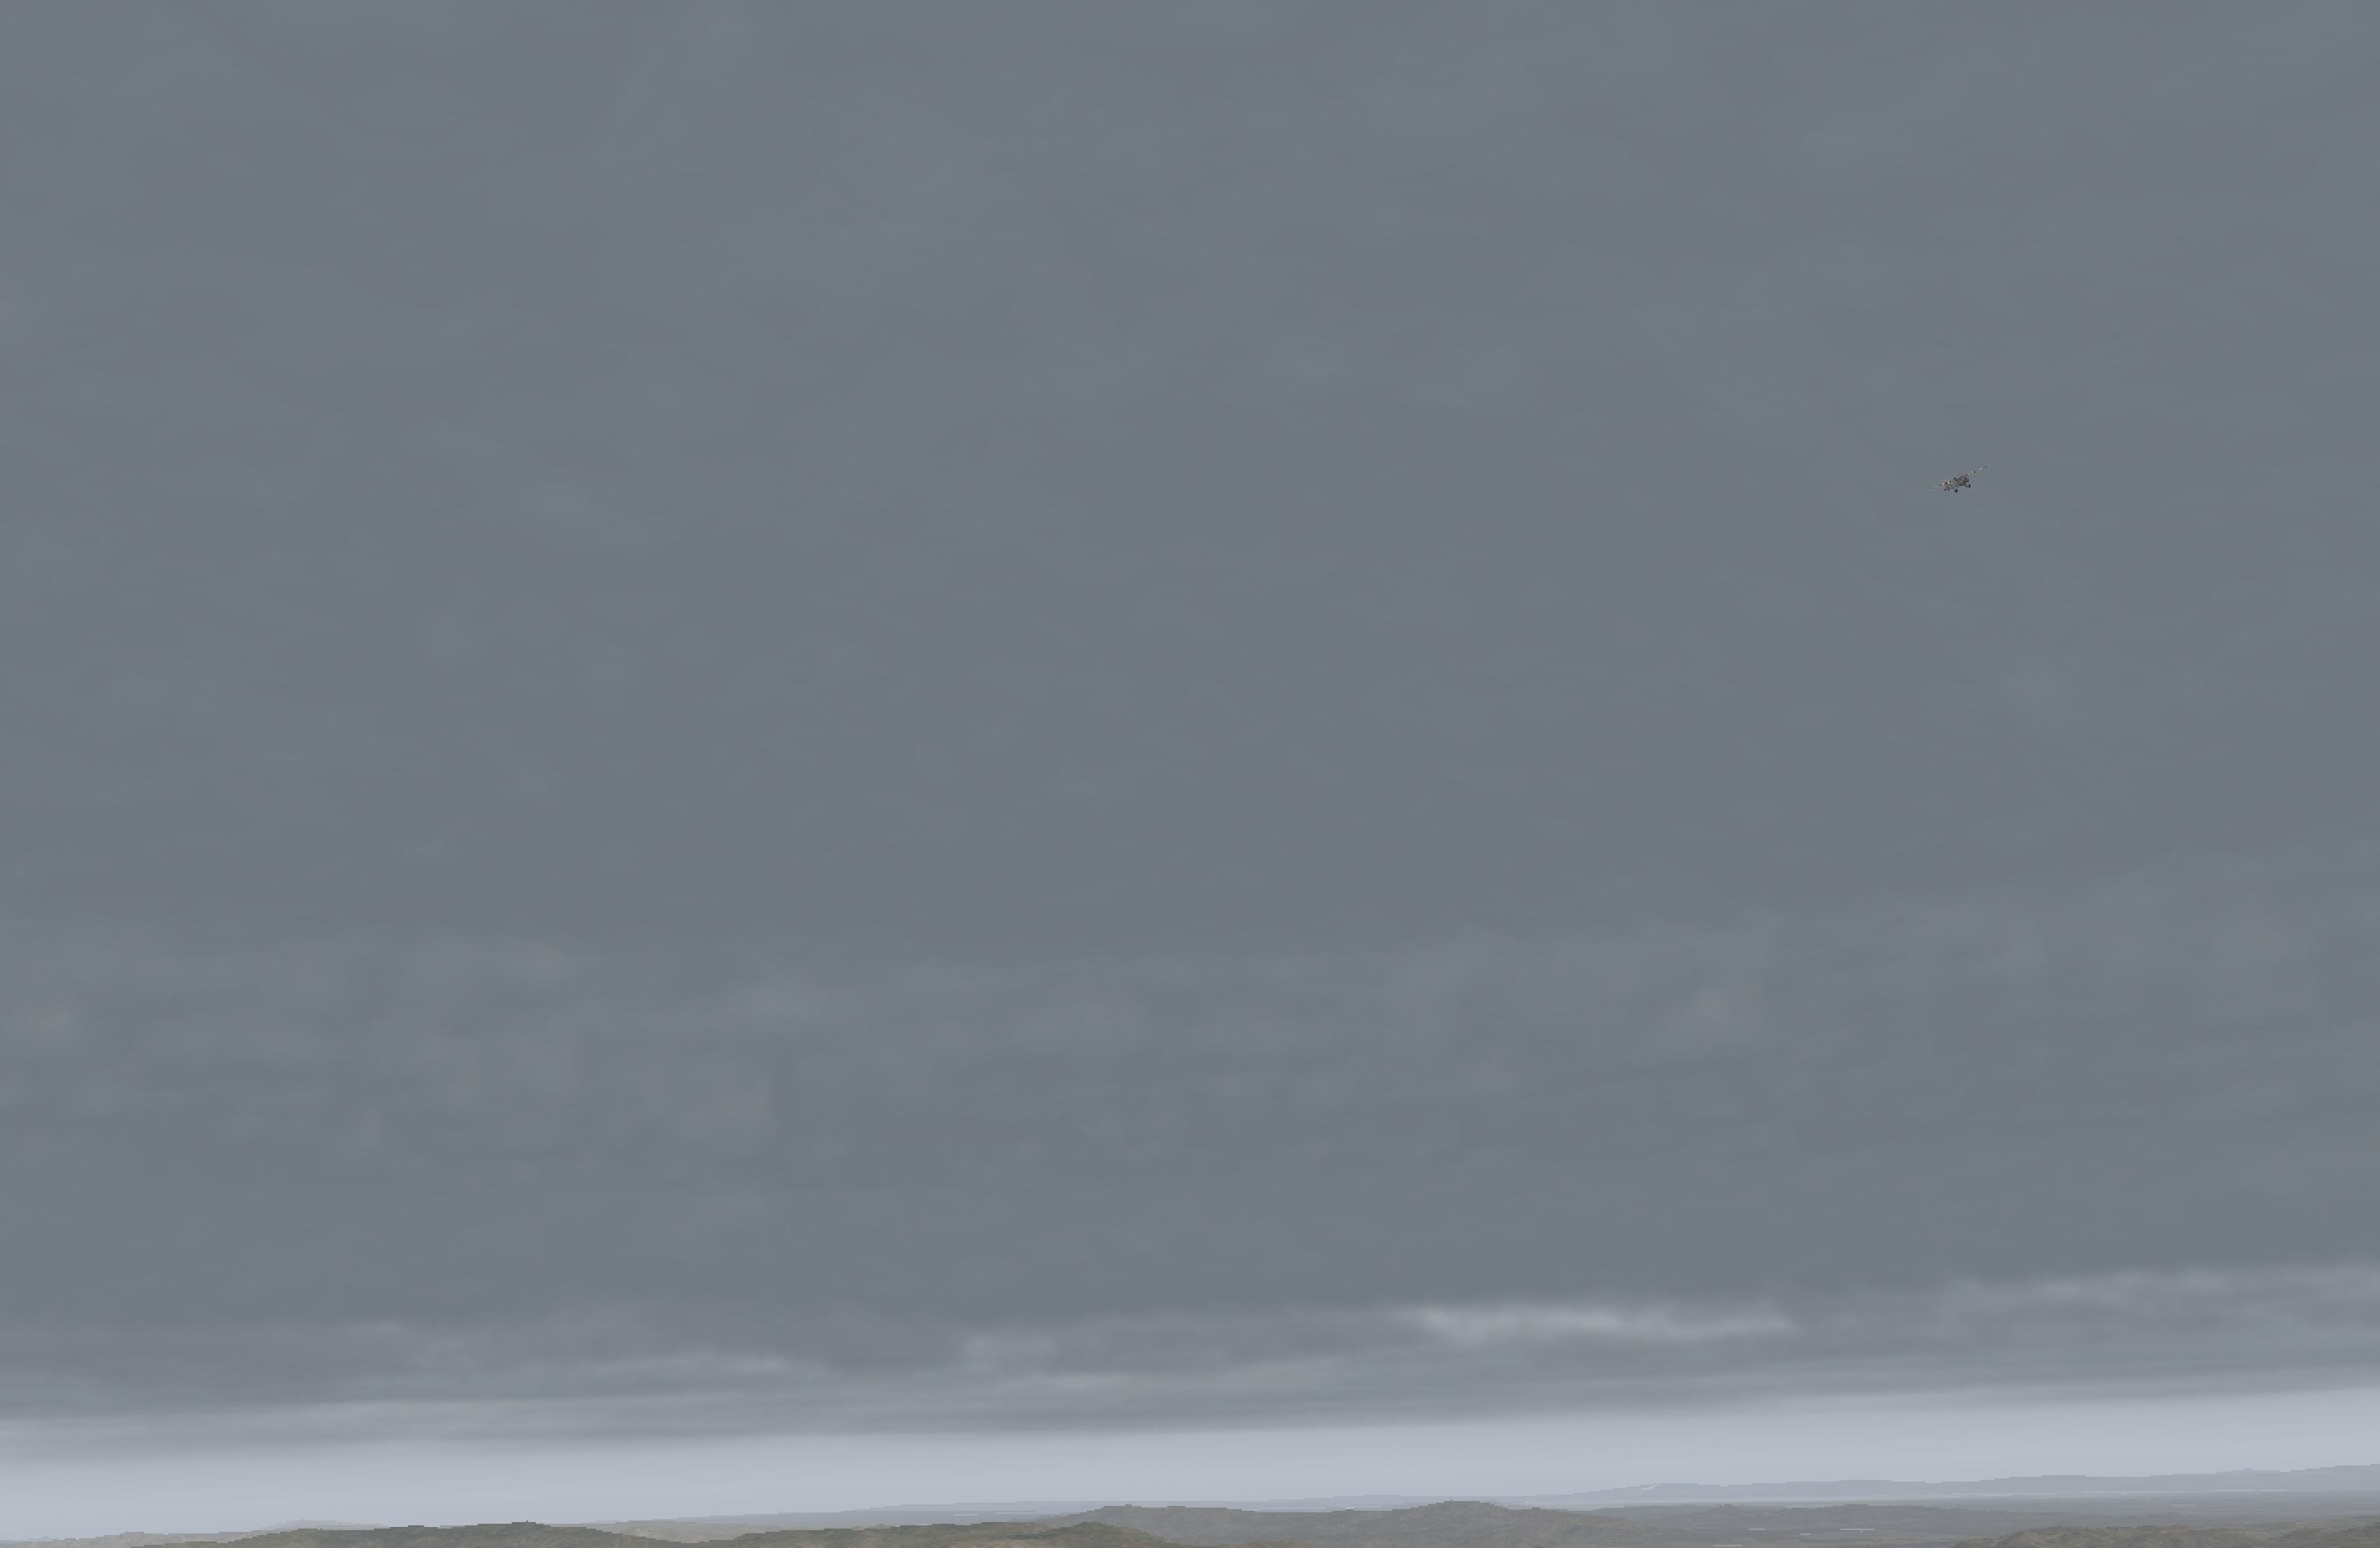aircraft: (1939, 474, 1983, 489)
